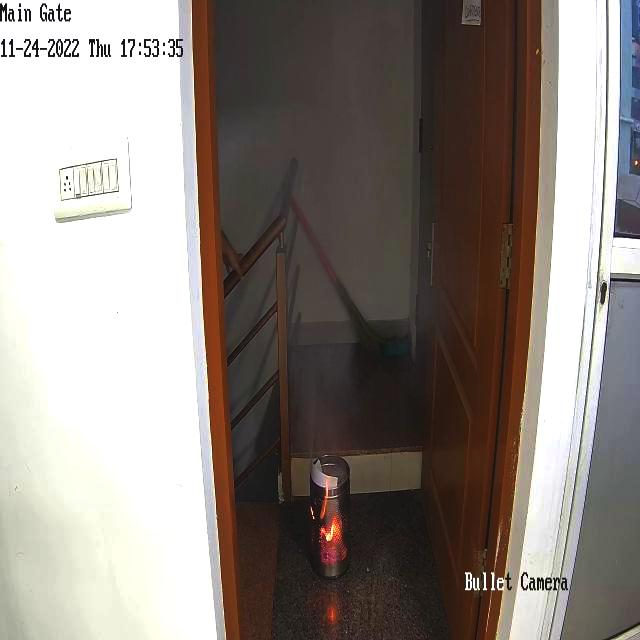fire: (310, 482, 346, 562)
smoke: (291, 344, 350, 449), (337, 196, 385, 276), (311, 162, 353, 220), (302, 286, 334, 348)
